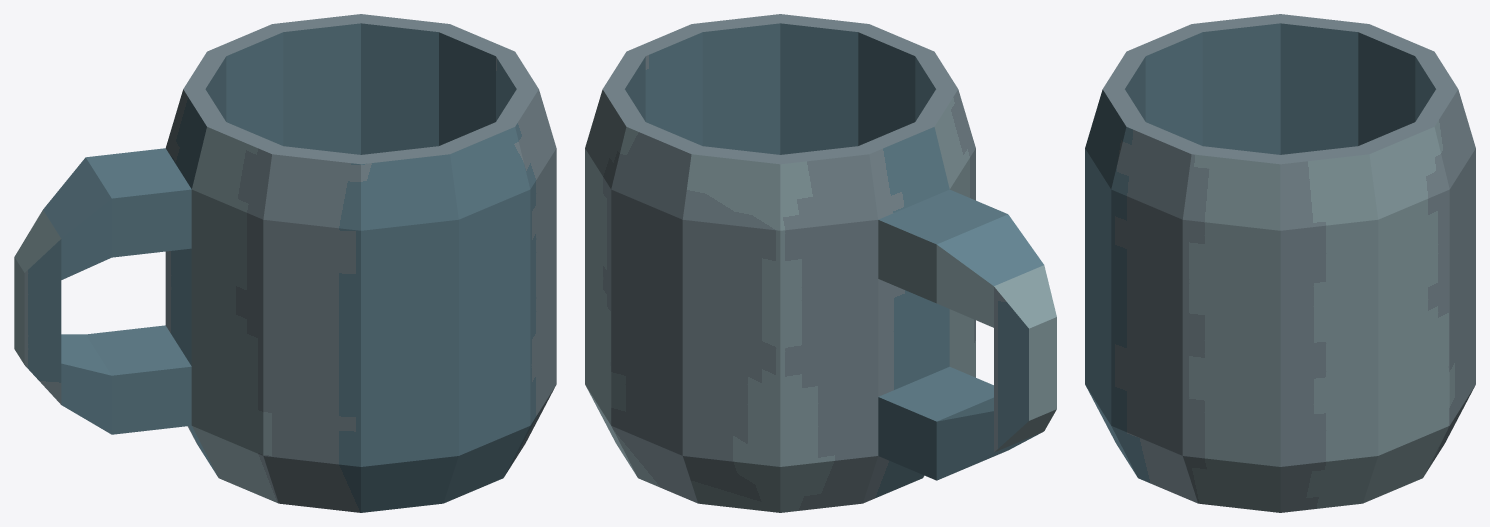
File: coffeecup.gltf
3 views of the same model, side by side, from view 1: azimuth 30°, elevation 25°; view 2: azimuth 150°, elevation 25°; view 3: azimuth 270°, elevation 25° (orthographic).
Visible parts, largest first — view 1: Cylinder; view 2: Cylinder; view 3: Cylinder.
Part boxes in pixels (x1,y1,x2,y2): Cylinder: (14, 14, 556, 512); Cylinder: (585, 14, 1056, 512); Cylinder: (1085, 14, 1475, 512).
Size of the model in its own units: 1.41 by 1 by 1.
Materials: 1 (1 with a texture image).
